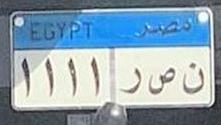1: (63, 58, 82, 99), (86, 54, 104, 97), (19, 55, 35, 100), (42, 56, 58, 99)
noon: (180, 57, 206, 96)
raa: (118, 62, 143, 97)
saad: (146, 65, 176, 98)
